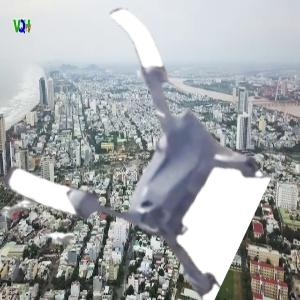drone: (21, 18, 275, 272)
